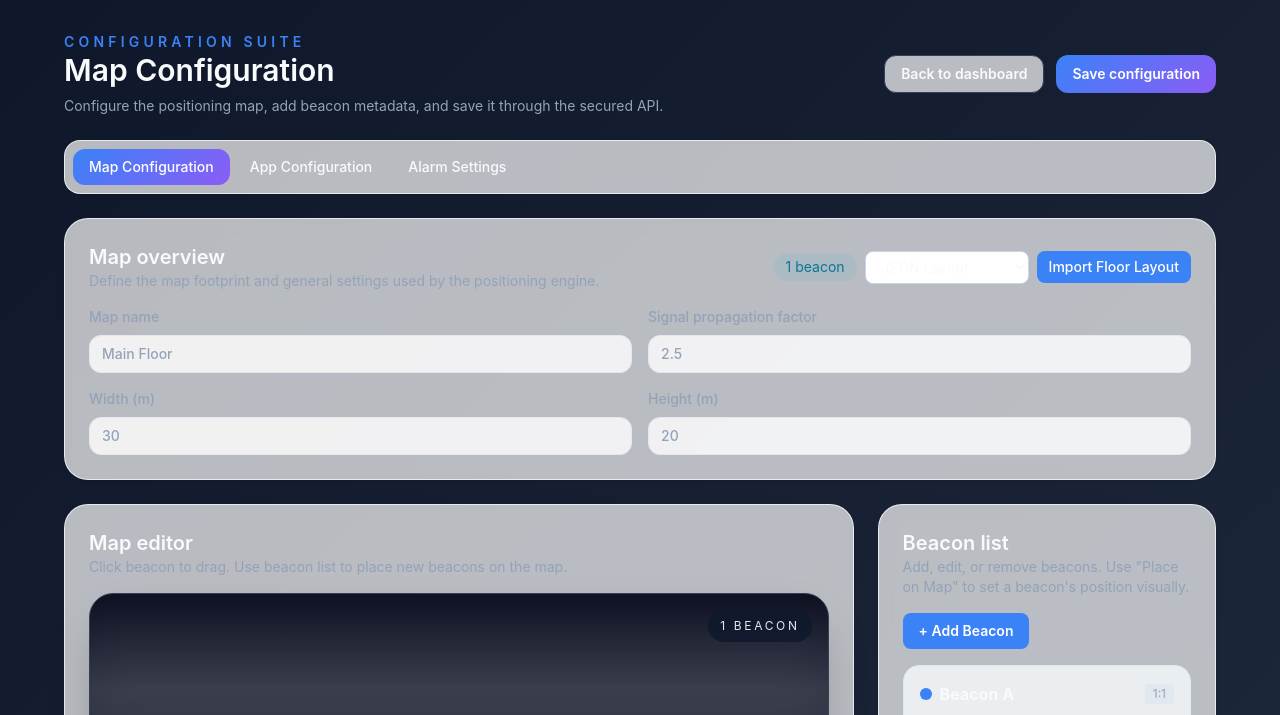
Test case: ConfigurationPage - App Configuration Tab › shows Webhook card when Webhook section is selected
Click the tab "App Configuration" at (311, 167), box [234, 149, 388, 185]
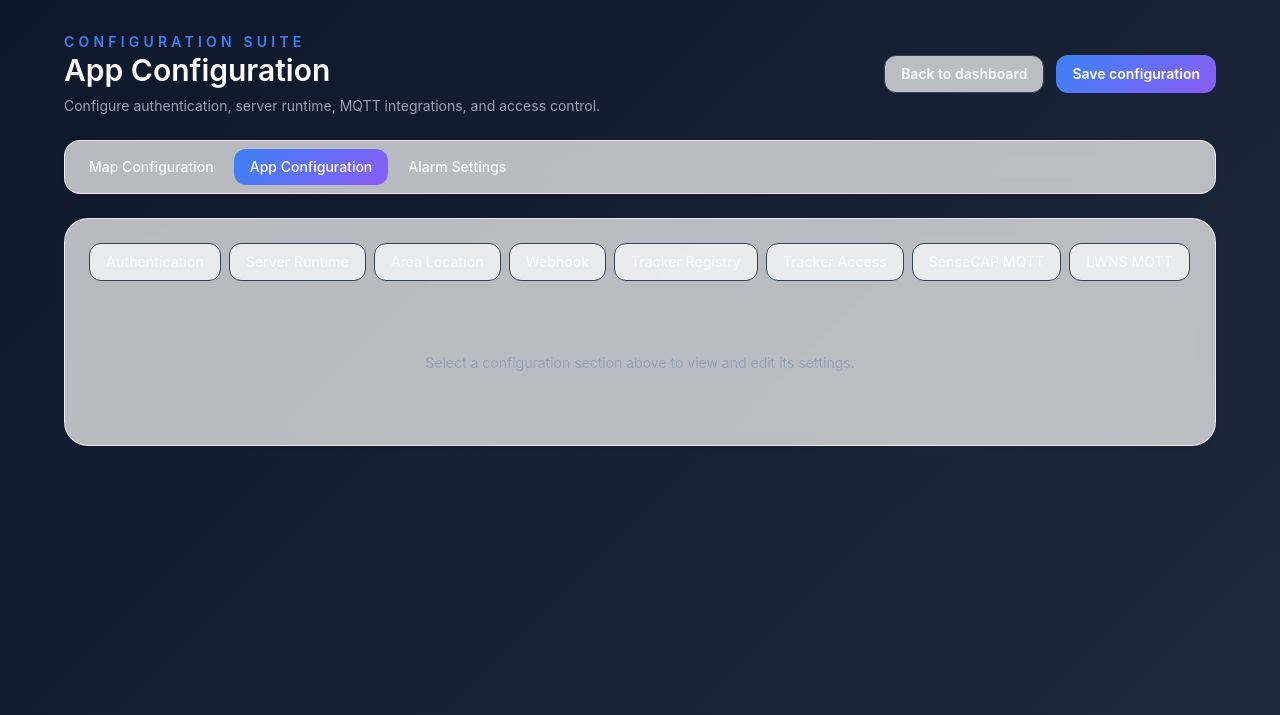
Result: the button "Webhook" is shown
Click the button "Webhook" at (557, 262), box [509, 243, 606, 281]
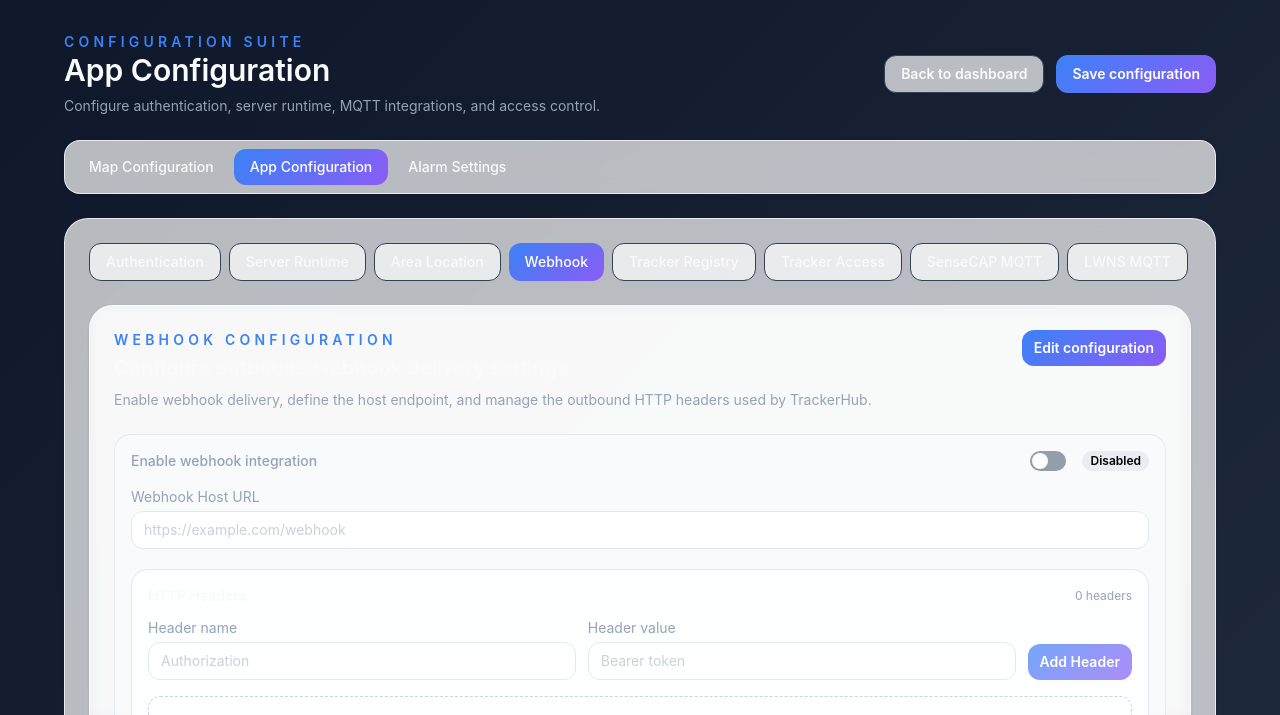
Result: the text "Enable webhook integration" is shown at [131, 451, 317, 471]
Result: the text "Webhook Host URL" is shown at [131, 487, 1149, 549]
